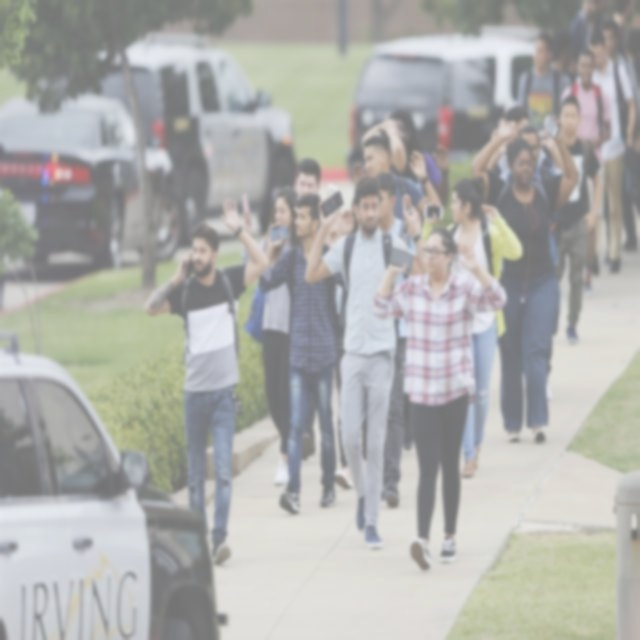pessoa: (304, 172, 434, 550), (372, 226, 508, 572), (144, 196, 270, 564), (470, 112, 580, 445), (420, 175, 524, 480), (258, 192, 350, 516), (480, 124, 570, 402), (240, 187, 303, 488), (372, 171, 421, 508), (560, 46, 612, 303), (583, 29, 637, 274), (551, 94, 603, 346), (152, 74, 213, 250), (548, 0, 640, 81), (362, 134, 444, 222), (386, 108, 450, 210), (517, 32, 573, 133), (492, 104, 556, 176), (616, 80, 640, 260), (292, 156, 324, 198)
